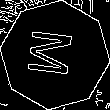M_E: (27, 29, 83, 81)
